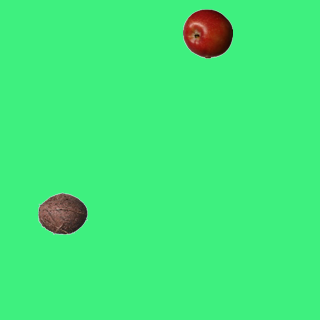Apple Braeburn: (182, 8, 232, 58)
Cocos: (37, 188, 87, 238)
